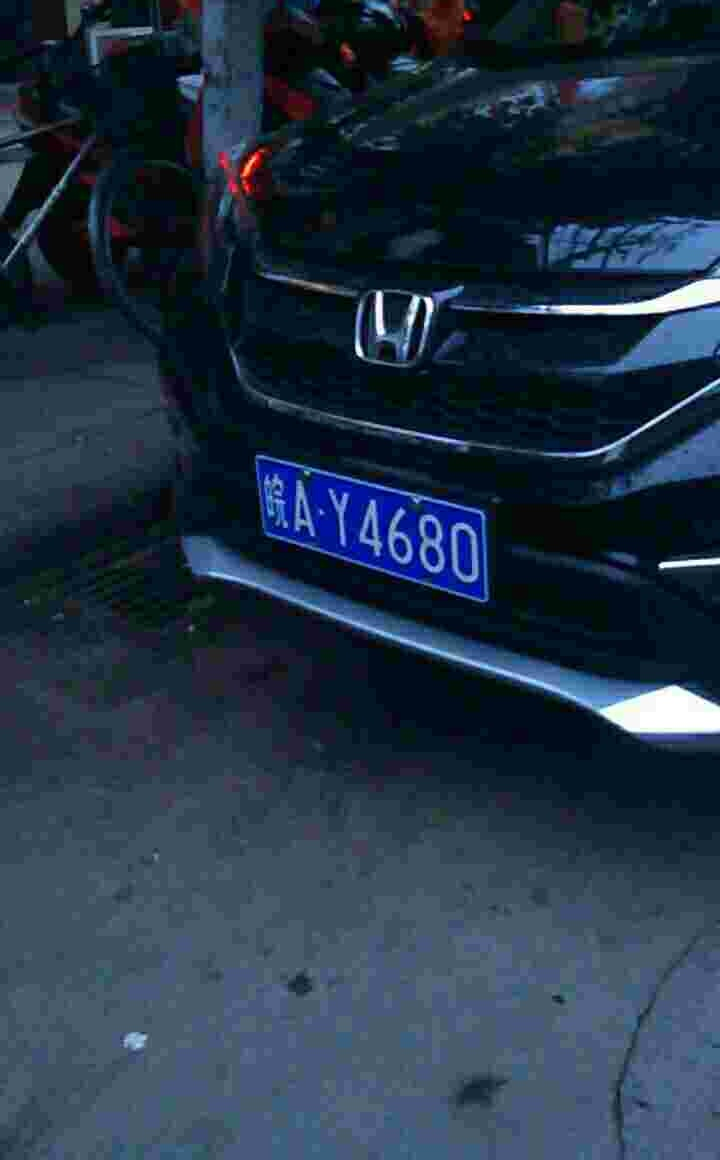license_plate: (242, 453, 488, 599)
